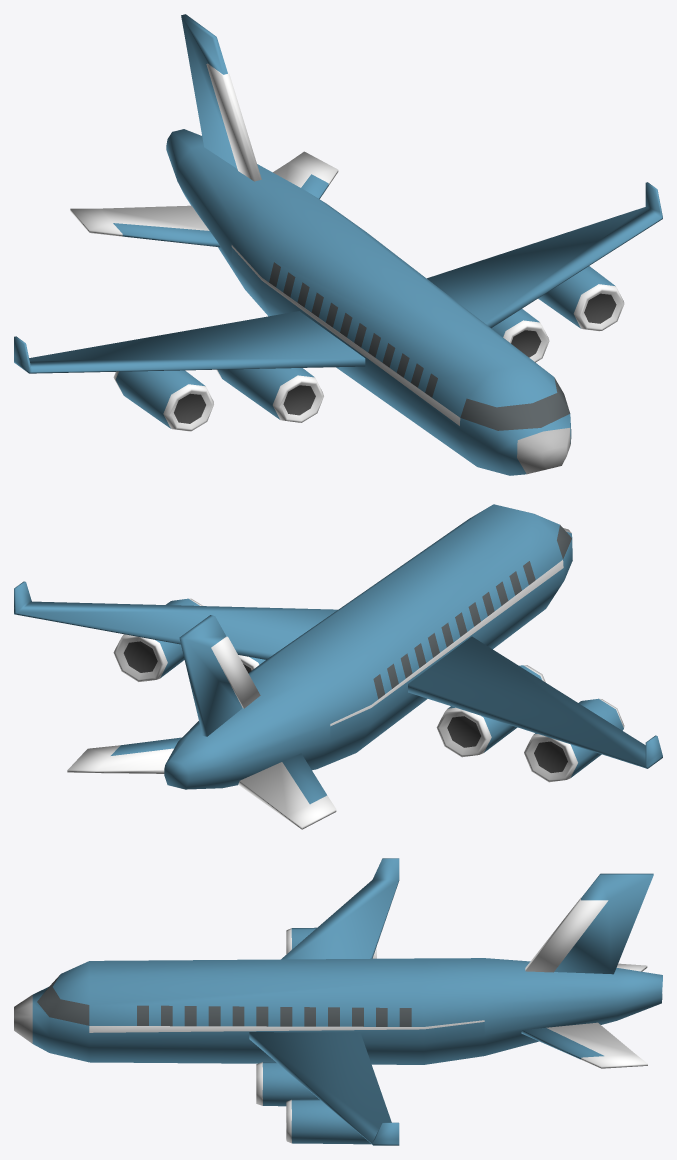
File: Airplane_2.fbx
The picture shows the model from 3 angles, top to bottom: view 1: azimuth 30°, elevation 25°; view 2: azimuth 150°, elevation 25°; view 3: azimuth 270°, elevation 25°; orthographic projection. The views are drawn at different scales.
Parts seen in each view (by area): view 1: Airplane_2; view 2: Airplane_2; view 3: Airplane_2.
Boxes of the visible parts, x1=… form: Airplane_2: x1=14, y1=14, x2=662, y2=475; Airplane_2: x1=14, y1=504, x2=662, y2=829; Airplane_2: x1=14, y1=858, x2=662, y2=1145.
Bounding box in the file's own units: 1852 × 598 × 1917.
